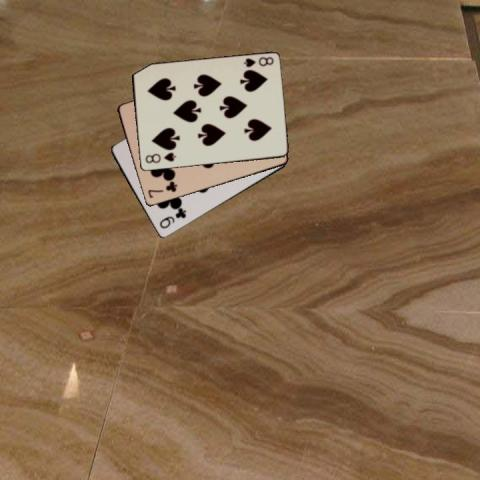7c: (145, 180, 178, 200)
8s: (142, 150, 177, 165), (241, 54, 274, 69)
9c: (156, 206, 187, 230)
